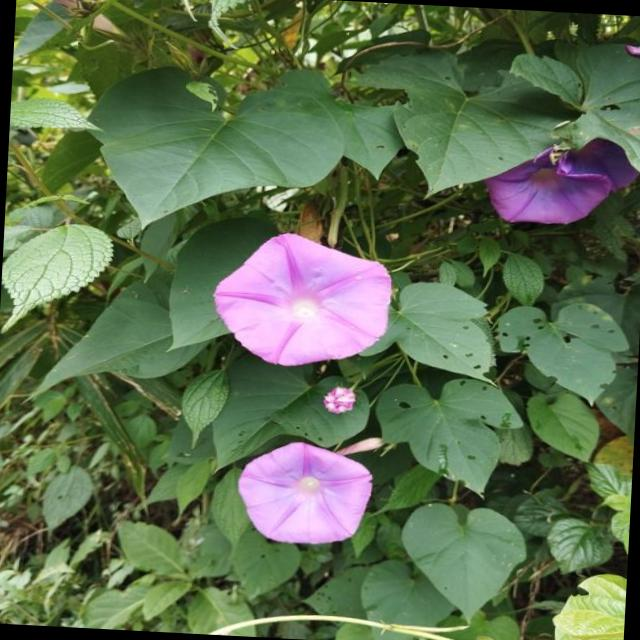ipomoea: (206, 226, 398, 374), (477, 129, 640, 233), (230, 436, 378, 550), (316, 382, 361, 418)
